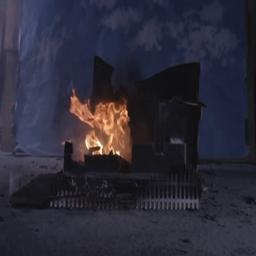fire: (60, 86, 139, 167)
